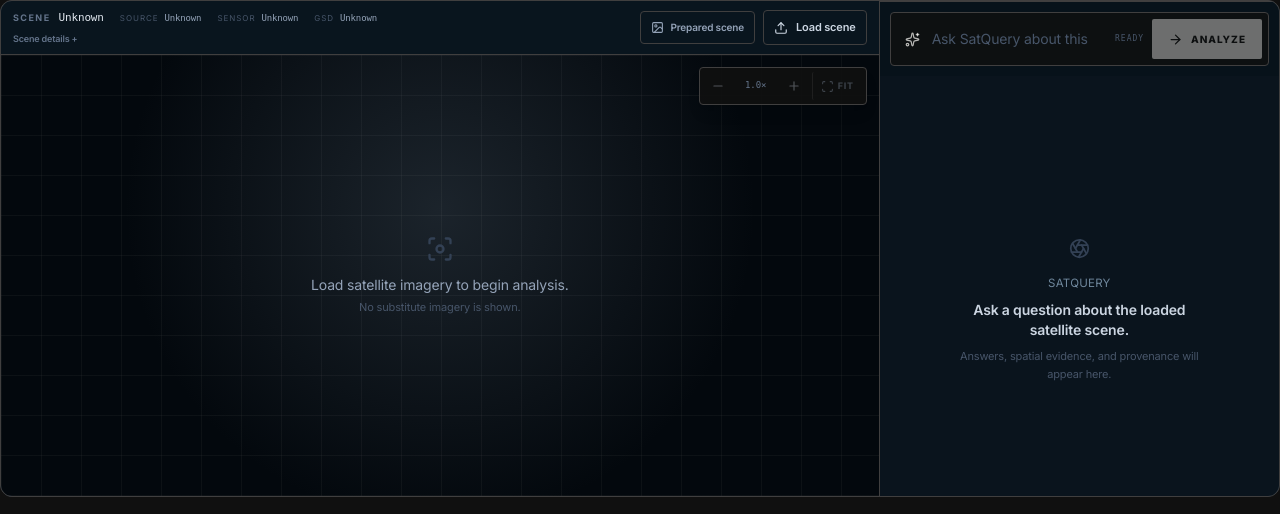
Test: Workspace analysis orchestration › clears a stale result when the question changes
Click the button "Prepared scene": x=698, y=28 left=640, top=11, right=755, bottom=44
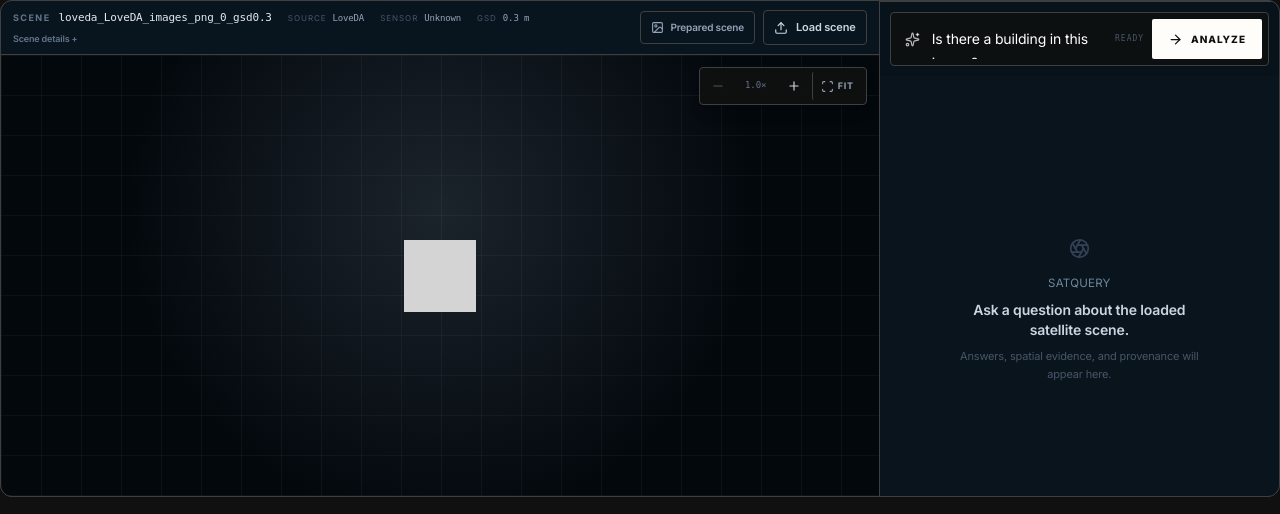
Click the button "Analyze": x=1207, y=39 left=1152, top=19, right=1262, bottom=59
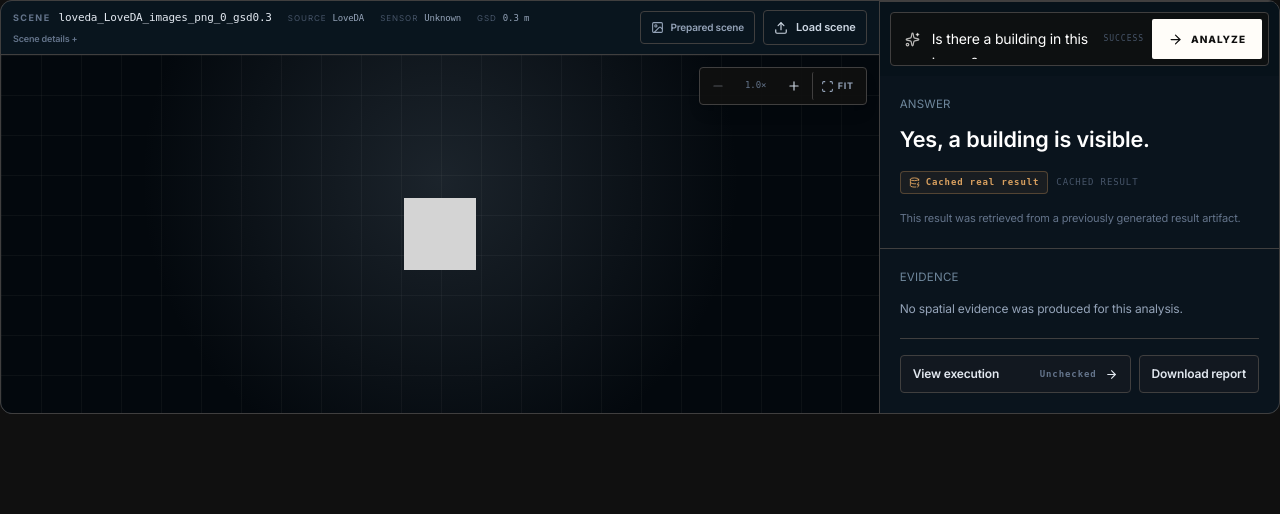
Expected: the text "Yes, a building is visible." is shown, left=900, top=126, right=1150, bottom=152
Replace the text in the text box named "Ask SatQuery" with "Where is the building?": x=1012, y=39 left=928, top=19, right=1096, bottom=59
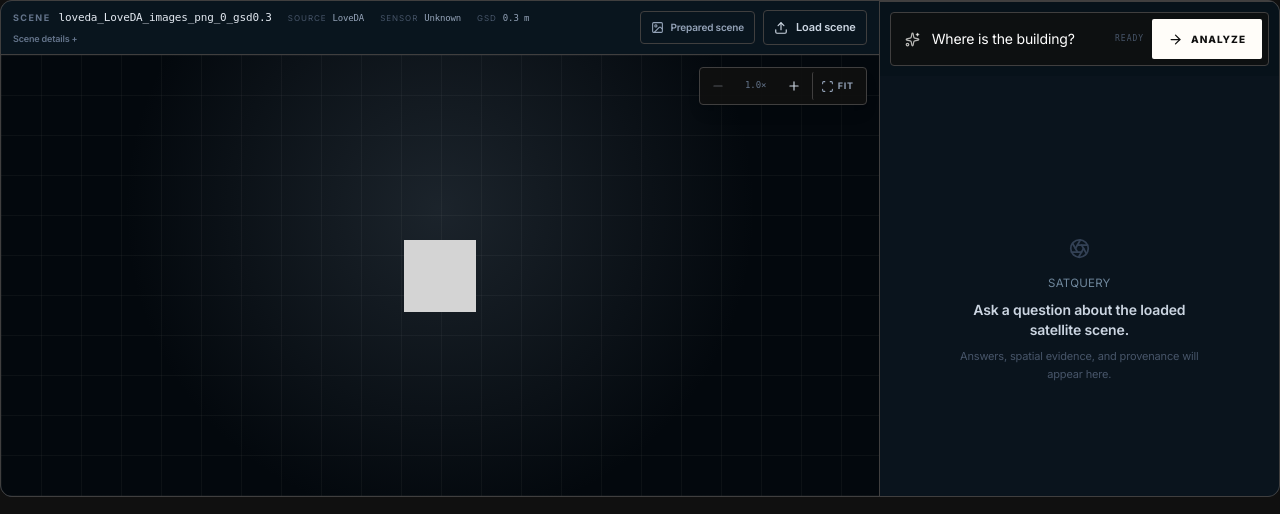
Expected: the text "Yes, a building is visible." is gone
Expected: the heading "Ask a question about the loaded satellite scene." is shown, left=973, top=301, right=1185, bottom=338
